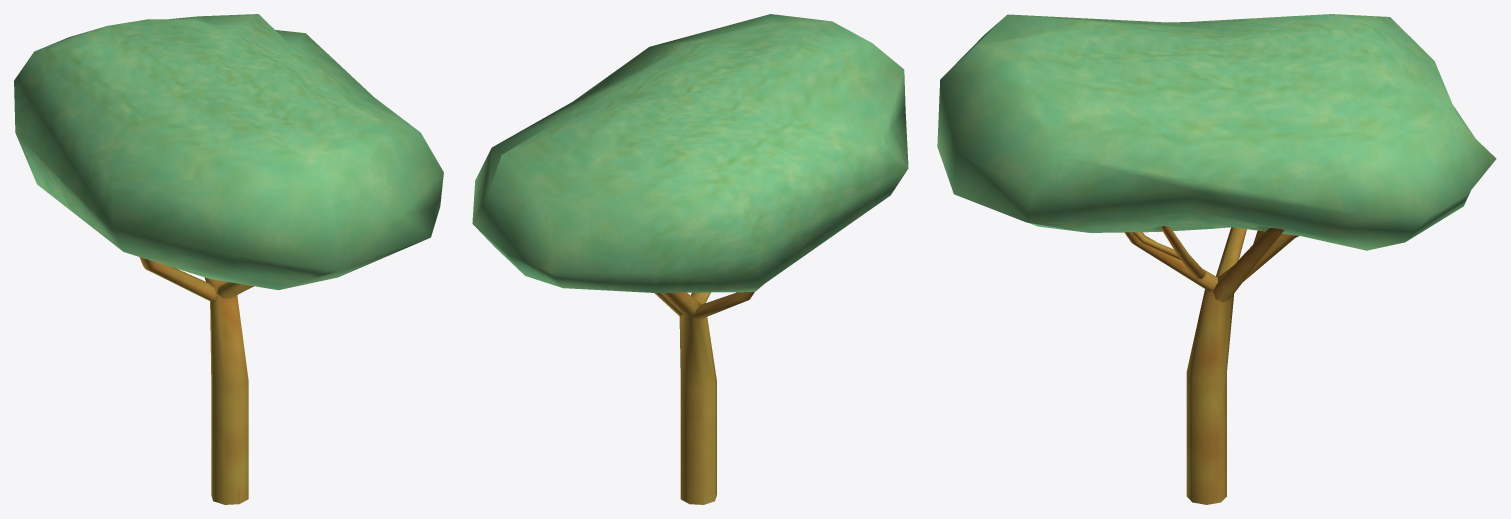
File: Tree1.fbx
The picture shows the model from 3 angles, left to right: view 1: azimuth 30°, elevation 25°; view 2: azimuth 150°, elevation 25°; view 3: azimuth 270°, elevation 25°; orthographic projection. The views are drawn at different scales.
Visible parts, largest first — view 1: Tree1; view 2: Tree1; view 3: Tree1.
Boxes of the visible parts, left/top/right/bottom form: Tree1: left=14, top=14, right=443, bottom=504; Tree1: left=472, top=14, right=908, bottom=504; Tree1: left=937, top=14, right=1496, bottom=504.
Size of the model in its own units: 4.05 by 5.14 by 5.81.
